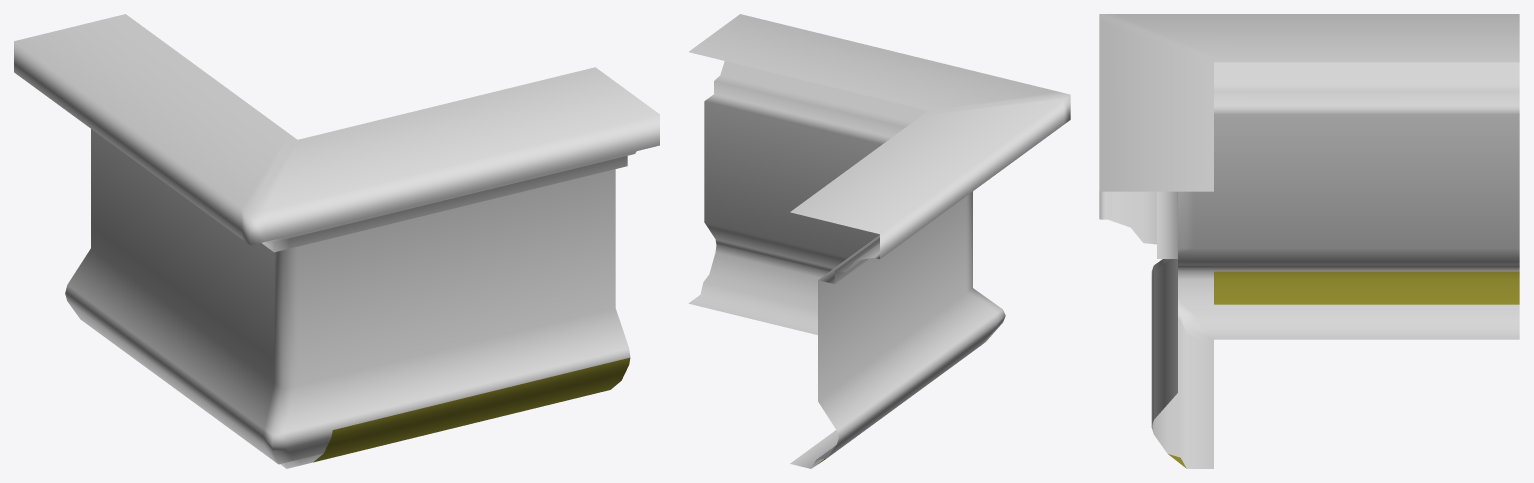
The model's file is SM_FriezeACorner1m.fbx.
3 views of the same model, side by side, from view 1: azimuth 30°, elevation 25°; view 2: azimuth 150°, elevation 25°; view 3: azimuth 270°, elevation 25° (orthographic). The views are drawn at different scales.
Visible parts, largest first — view 1: SM_FriezeACorner1m; view 2: SM_FriezeACorner1m; view 3: SM_FriezeACorner1m.
Boxes of the visible parts, x1,y1,x2,y2 form: SM_FriezeACorner1m: (14,14,659,468); SM_FriezeACorner1m: (688,14,1070,468); SM_FriezeACorner1m: (1099,14,1519,468).
Bounding box in the file's own units: 138 × 100 × 137.
